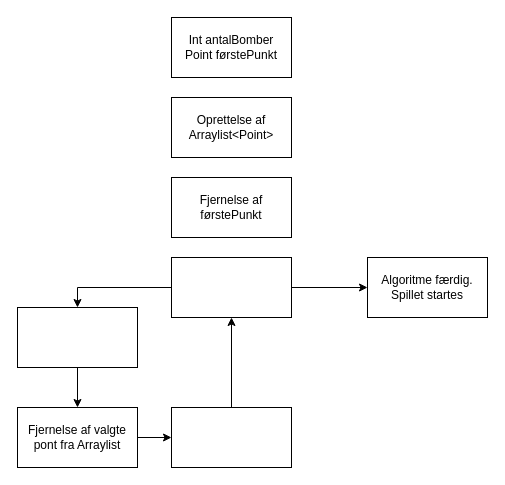
This 505x485 diagram has some shape labels left out. Here are the shapes that lost their labels. From the top down, the centre of each, then its label:
At point 231,287: "For loop(Antal Bomber)".
At point 77,337: "Random(antal bomberr-i)".
At point 231,437: "Private spilleplade array opdateres med Bombe på valgte placering.".
